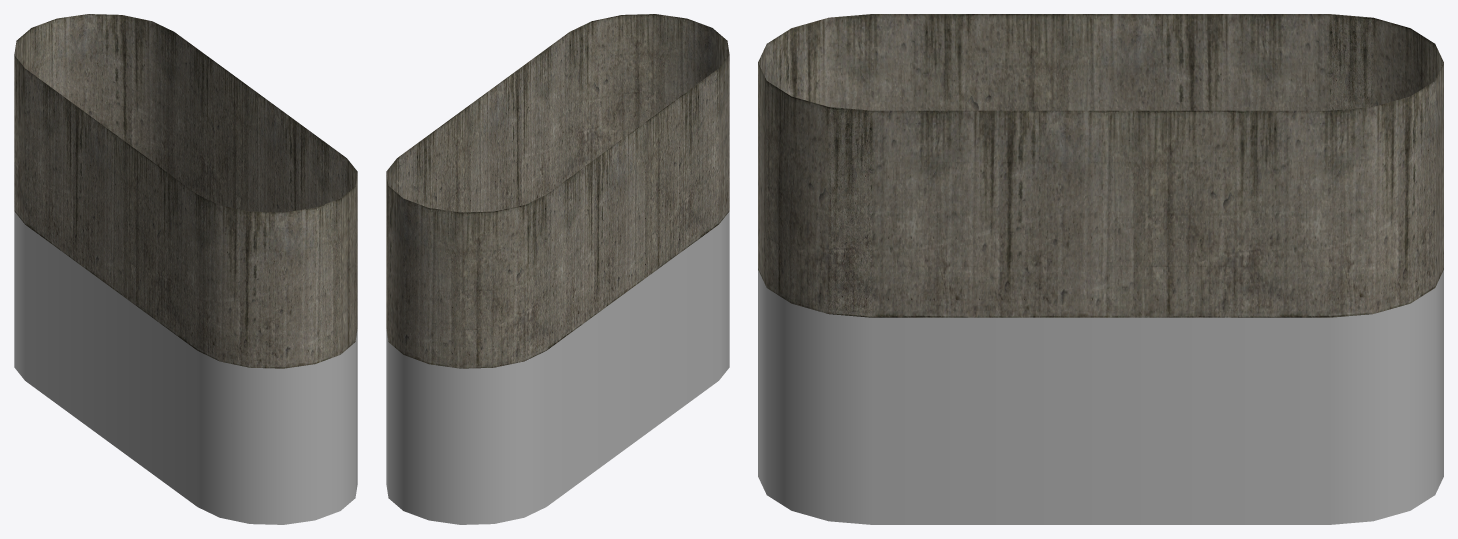
Rendered from concrete_pillar_overgrown_transition.dae.
3 renders of one model, left to right at view 1: azimuth 30°, elevation 25°; view 2: azimuth 150°, elevation 25°; view 3: azimuth 270°, elevation 25°, orthographic. The views are drawn at different scales.
Parts seen in each view (by area): view 1: polySurface132, polySurface131; view 2: polySurface132, polySurface131; view 3: polySurface132, polySurface131.
Part boxes in pixels (<box>): polySurface132: <box>14,14,357,368</box>; polySurface131: <box>14,211,357,524</box>; polySurface132: <box>386,14,729,368</box>; polySurface131: <box>386,211,729,524</box>; polySurface132: <box>758,14,1443,317</box>; polySurface131: <box>758,270,1443,524</box>.
Size of the model in its own units: 2 by 4 by 6.
